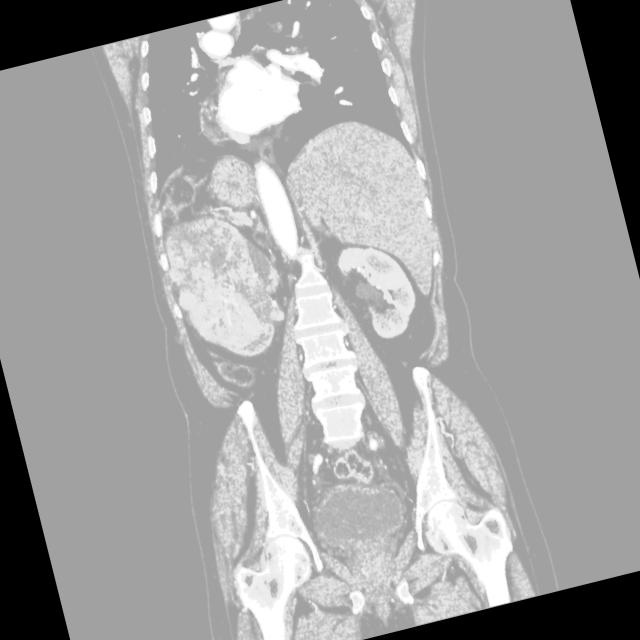TUMOR: (48, 105, 508, 432)
